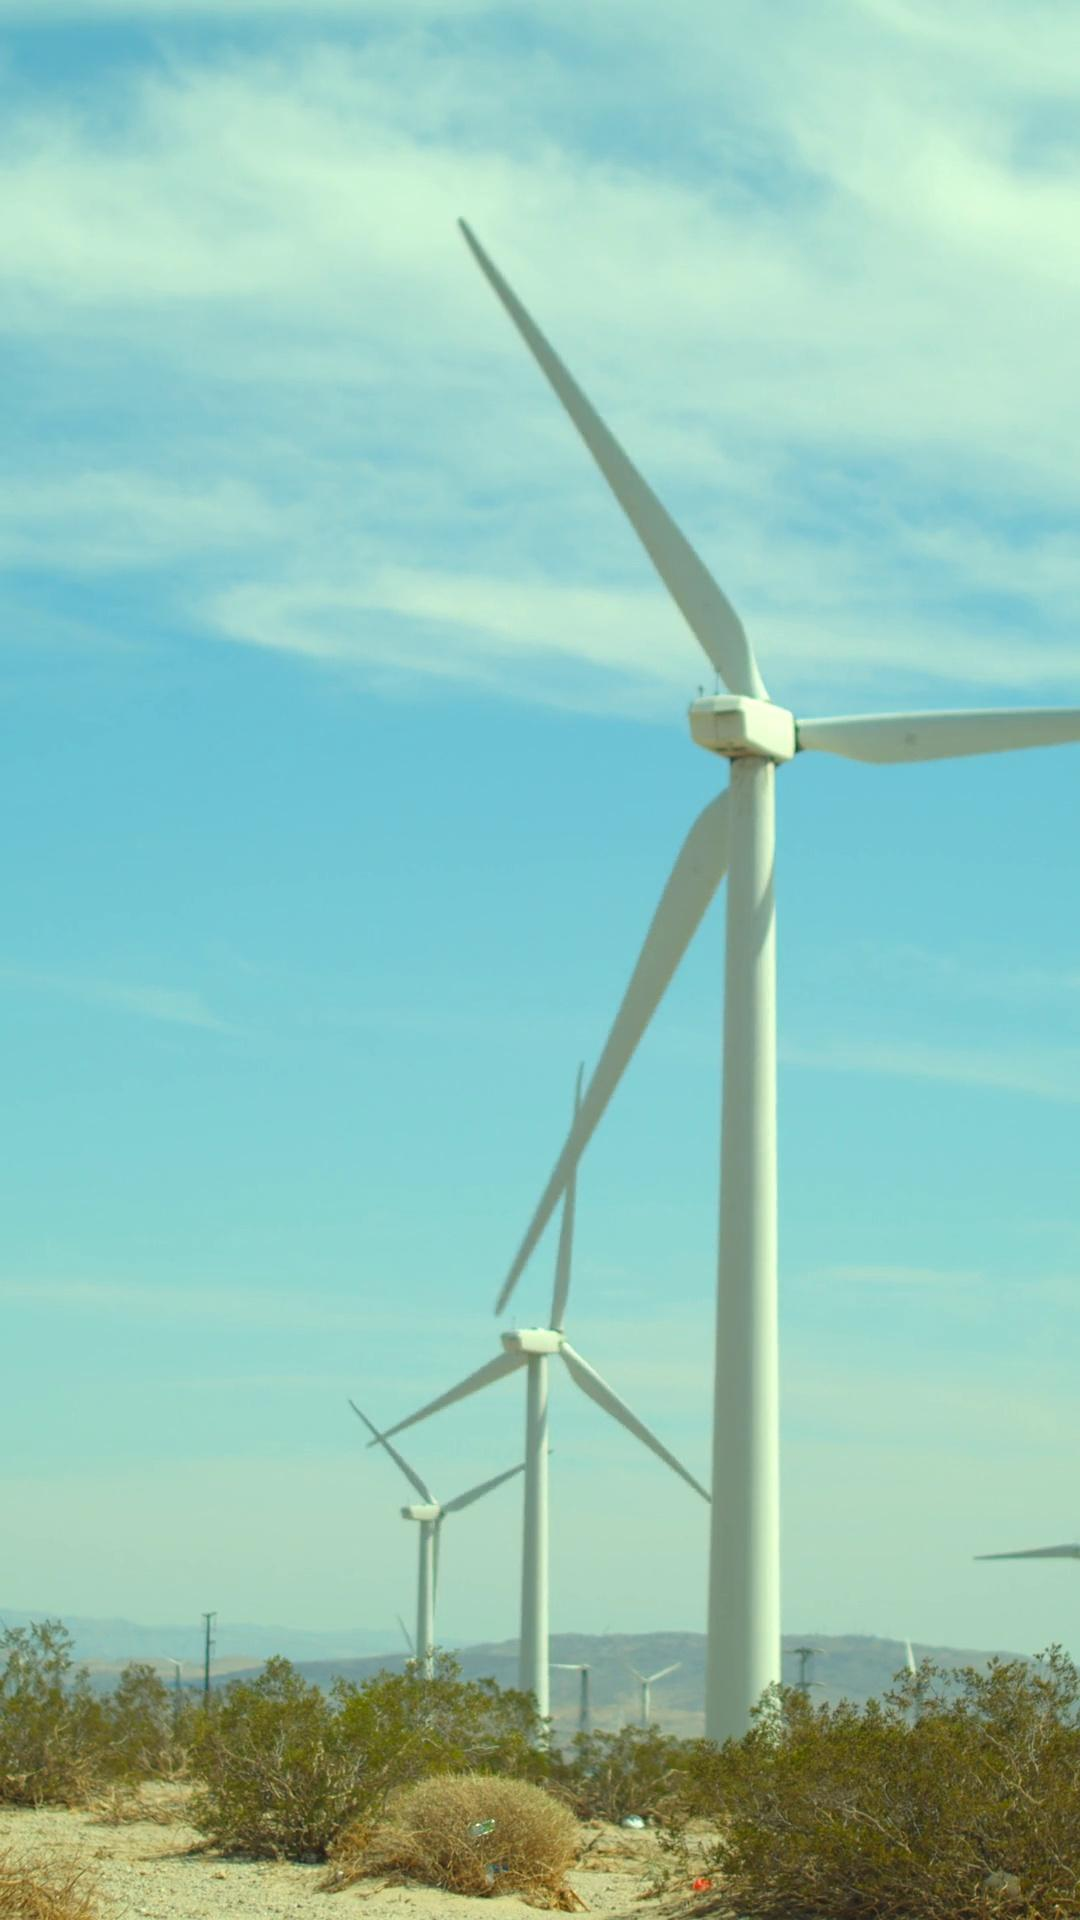turbine: (173, 144, 1080, 1829), (373, 1100, 758, 1792), (320, 1307, 529, 1797), (589, 1619, 702, 1776)
